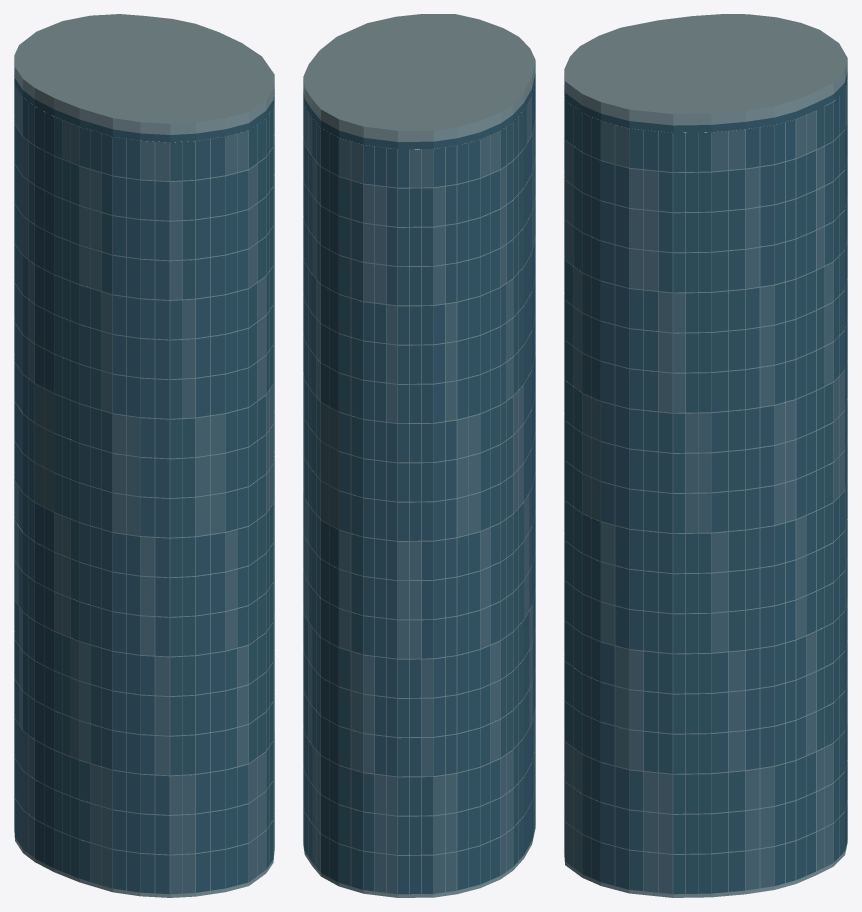
Rendered from skytower-bucharest-far.glb.
3 views of the same model, side by side, from view 1: azimuth 30°, elevation 25°; view 2: azimuth 150°, elevation 25°; view 3: azimuth 270°, elevation 25° (orthographic). The views are drawn at different scales.
Visible parts, largest first — view 1: skytower-bucharest-0-glass, skytower-bucharest-0-glassLight, skytower-bucharest-0-frame, skytower-bucharest-0-roof; view 2: skytower-bucharest-0-glass, skytower-bucharest-0-glassLight, skytower-bucharest-0-frame, skytower-bucharest-0-roof; view 3: skytower-bucharest-0-glass, skytower-bucharest-0-glassLight, skytower-bucharest-0-frame, skytower-bucharest-0-roof.
Boxes of the visible parts, <box> form: skytower-bucharest-0-glass: <box>14,70,274,894</box>; skytower-bucharest-0-glassLight: <box>14,86,274,894</box>; skytower-bucharest-0-frame: <box>14,58,274,897</box>; skytower-bucharest-0-roof: <box>14,14,274,123</box>; skytower-bucharest-0-glass: <box>303,73,535,894</box>; skytower-bucharest-0-glassLight: <box>303,96,535,893</box>; skytower-bucharest-0-frame: <box>303,62,535,897</box>; skytower-bucharest-0-roof: <box>303,14,535,130</box>; skytower-bucharest-0-glass: <box>564,71,847,894</box>; skytower-bucharest-0-glassLight: <box>564,79,847,893</box>; skytower-bucharest-0-frame: <box>564,60,847,897</box>; skytower-bucharest-0-roof: <box>564,14,847,113</box>.
Bounding box in the file's own units: 37.52 × 137 × 44.93.
